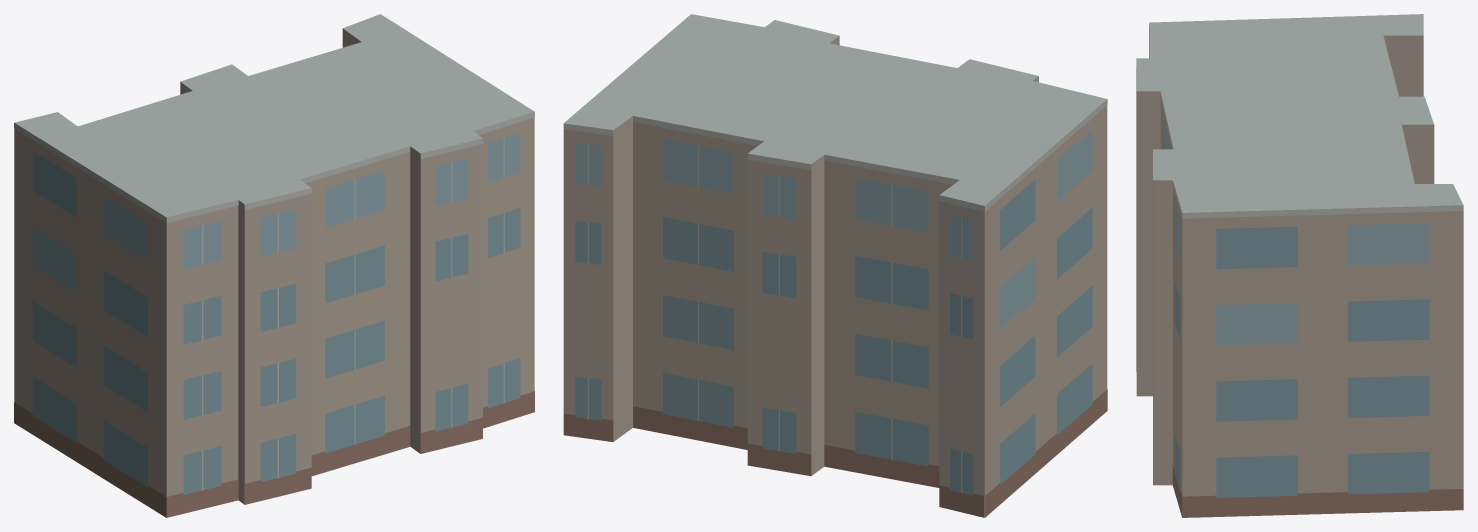
The model's file is survey-upis-32758347.glb.
3 renders of one model, left to right at view 1: azimuth 30°, elevation 25°; view 2: azimuth 150°, elevation 25°; view 3: azimuth 270°, elevation 25°, orthographic. The views are drawn at different scales.
Parts seen in each view (by area): view 1: survey-upis-32758347.tmp; view 2: survey-upis-32758347.tmp; view 3: survey-upis-32758347.tmp.
Part boxes in pixels (x1=…): survey-upis-32758347.tmp: x1=14, y1=14, x2=534, y2=517; survey-upis-32758347.tmp: x1=563, y1=14, x2=1107, y2=517; survey-upis-32758347.tmp: x1=1136, y1=14, x2=1463, y2=517.
Bounding box in the file's own units: 18.06 × 12.9 × 12.55.
